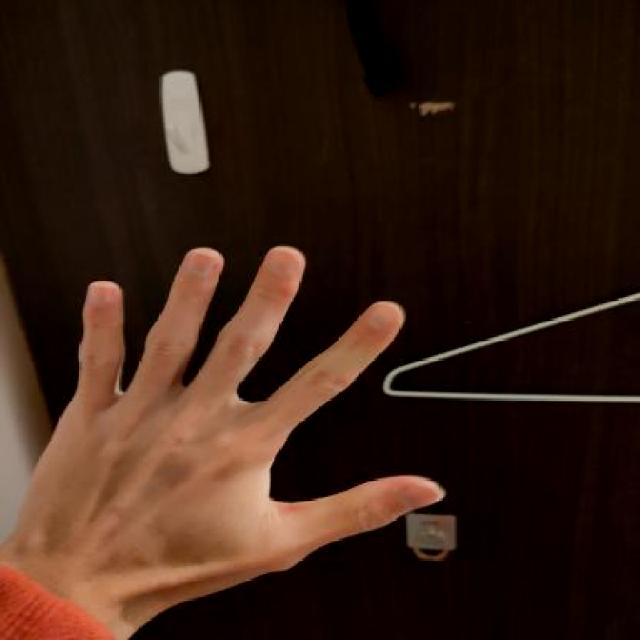no_glove: (2, 220, 463, 638)
